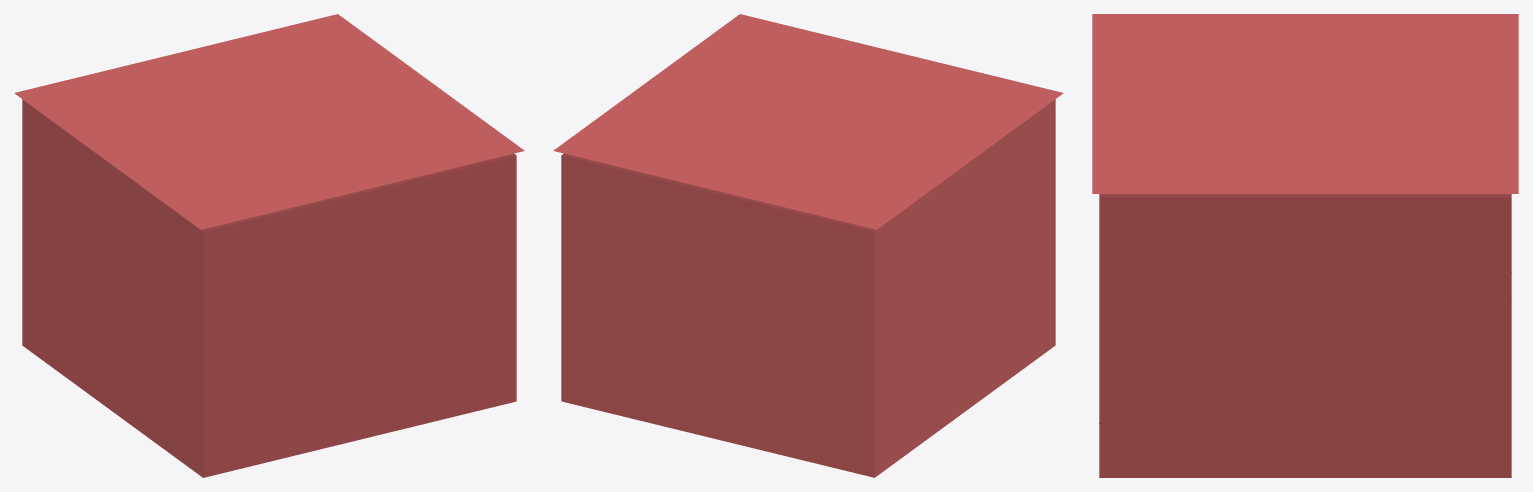
File: suisou.glb
The picture shows the model from 3 angles, left to right: view 1: azimuth 30°, elevation 25°; view 2: azimuth 150°, elevation 25°; view 3: azimuth 270°, elevation 25°; orthographic projection. The views are drawn at different scales.
Visible parts, largest first — view 1: suisou_col; view 2: suisou_col; view 3: suisou_col.
Boxes of the visible parts, box(x1,y1,x2,y2) form: suisou_col: box(14, 14, 524, 477); suisou_col: box(553, 14, 1063, 477); suisou_col: box(1092, 14, 1518, 477).
Bounding box in the file's own units: 6.2 × 4.6 × 6.2.
